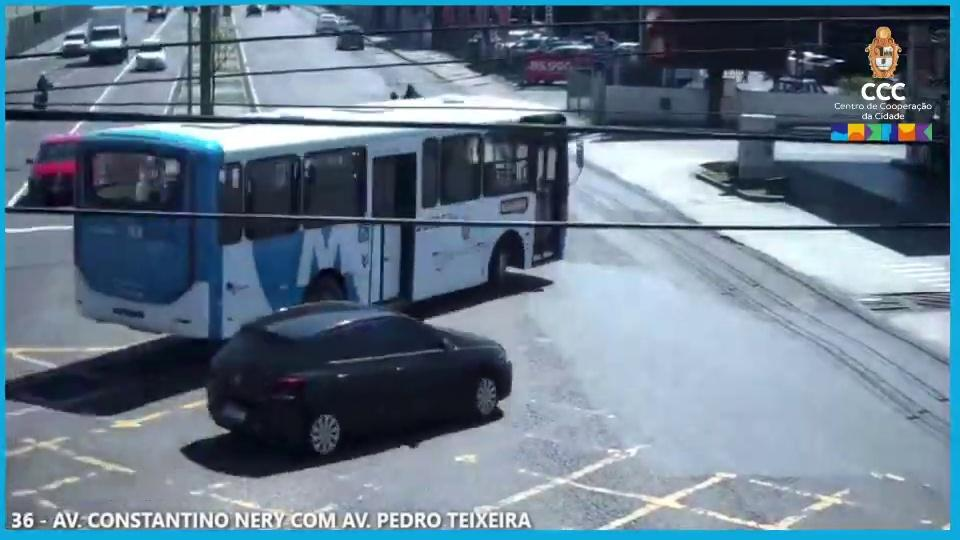car: (208, 301, 515, 458), (25, 132, 76, 200), (134, 38, 173, 72), (56, 25, 85, 61)
truck: (75, 92, 583, 331), (86, 6, 133, 62)
